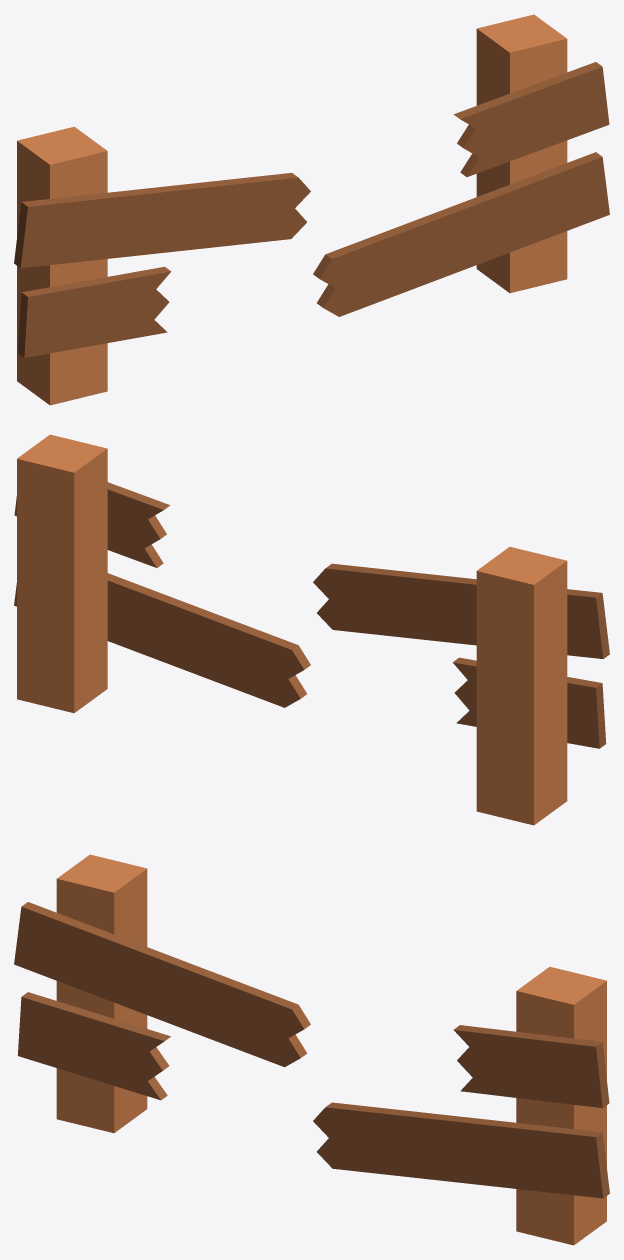
File: fenceBroken.fbx
3 views of the same model, one above another, from view 1: azimuth 30°, elevation 25°; view 2: azimuth 150°, elevation 25°; view 3: azimuth 330°, elevation 25° (orthographic).
Parts seen in each view (by area): view 1: fenceBroken; view 2: fenceBroken; view 3: fenceBroken.
Boxes of the visible parts, left/top/right/bottom form: fenceBroken: left=14, top=14, right=609, bottom=405; fenceBroken: left=14, top=434, right=609, bottom=825; fenceBroken: left=14, top=854, right=609, bottom=1245.
Size of the model in its own units: 10.26 by 4 by 1.2.
